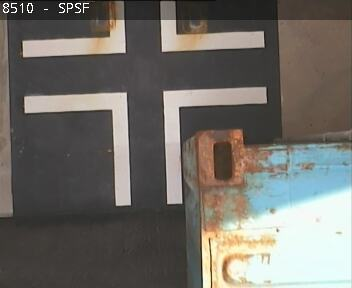groundmarker_1: (22, 85, 265, 205)
